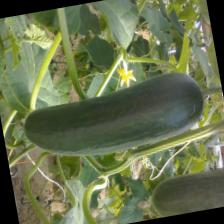cucumber: (17, 66, 210, 168), (144, 165, 224, 218)
